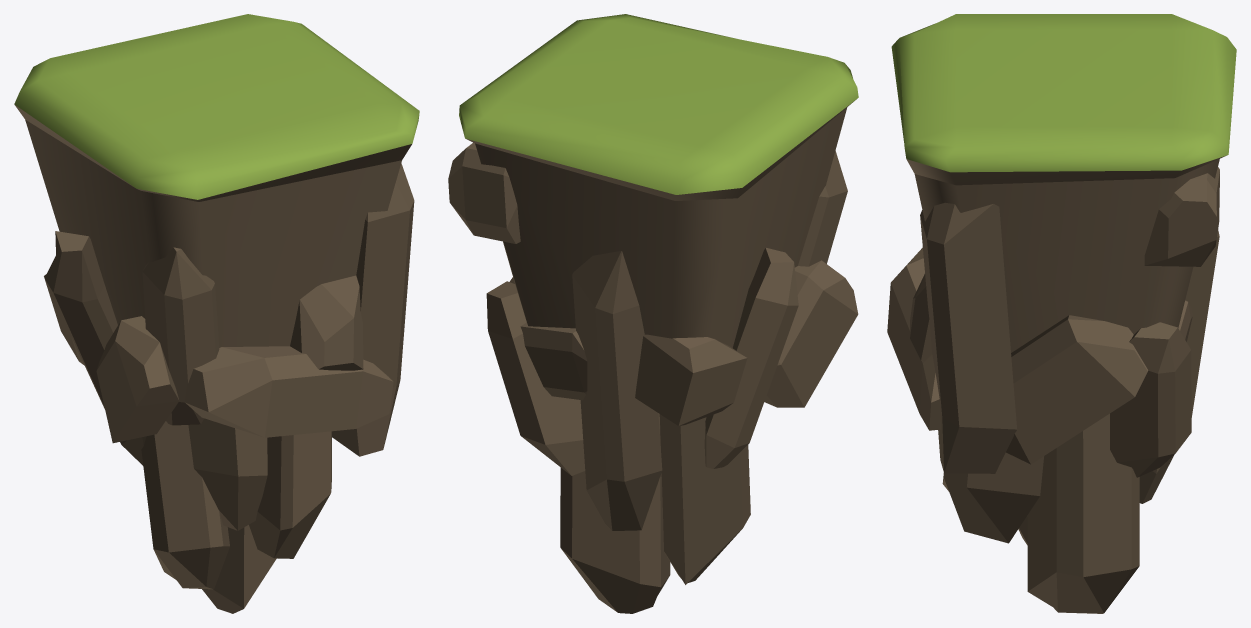
Rendered from Tile_Small.fbx.
3 renders of one model, left to right at view 1: azimuth 30°, elevation 25°; view 2: azimuth 150°, elevation 25°; view 3: azimuth 270°, elevation 25°, orthographic.
Visible parts, largest first — view 1: Tile_Small; view 2: Tile_Small; view 3: Tile_Small.
Part boxes in pixels (x1=…): Tile_Small: x1=14, y1=14, x2=419, y2=613; Tile_Small: x1=448, y1=14, x2=858, y2=613; Tile_Small: x1=887, y1=14, x2=1236, y2=613.
Size of the model in its own units: 126 by 213 by 128.
